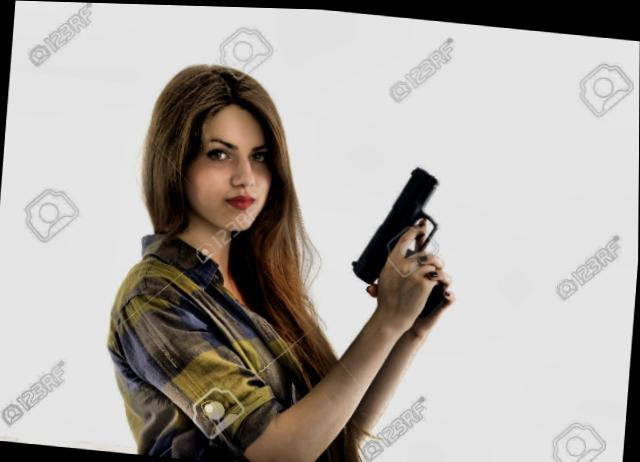pistol: (337, 154, 456, 325)
